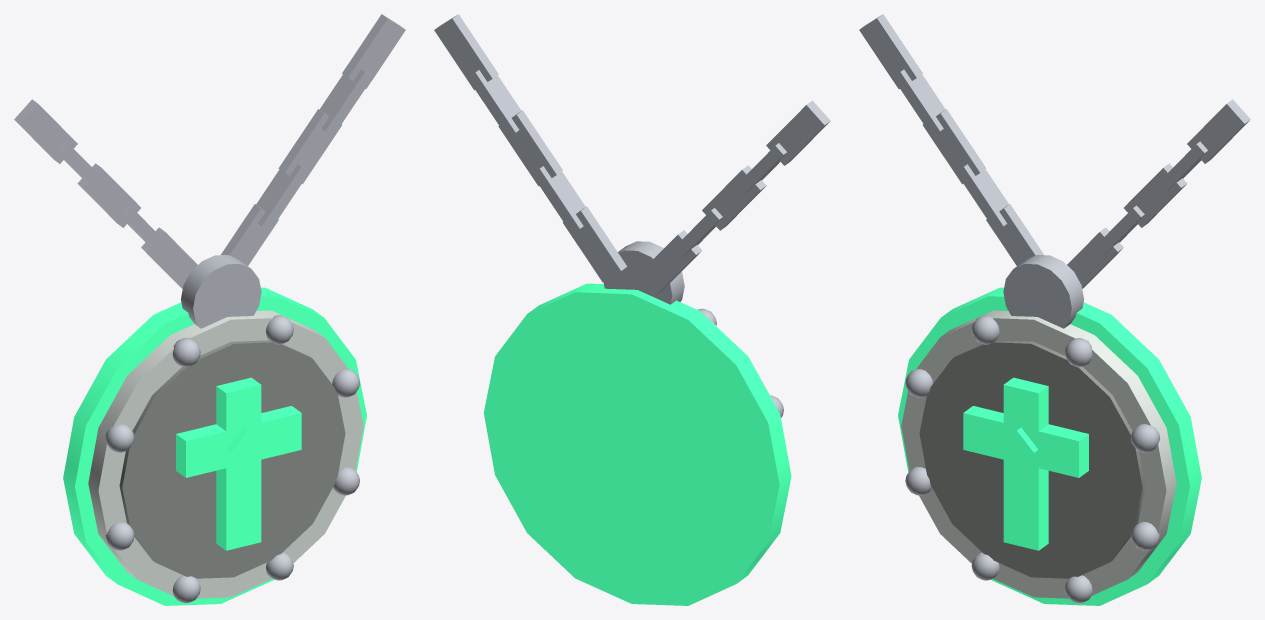
3 views of the same model, side by side, from view 1: azimuth 30°, elevation 25°; view 2: azimuth 150°, elevation 25°; view 3: azimuth 330°, elevation 25° (orthographic).
Visible parts, largest first — view 1: rank-support-e; view 2: rank-support-e; view 3: rank-support-e.
Boxes of the visible parts, x1=… form: rank-support-e: x1=14, y1=14, x2=405, y2=605; rank-support-e: x1=434, y1=14, x2=830, y2=605; rank-support-e: x1=859, y1=14, x2=1250, y2=605.
Size of the model in its own units: 0.2333 by 0.3103 by 0.0472.
